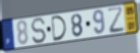8: (16, 19, 30, 47), (71, 14, 84, 39)
9: (92, 9, 106, 37)
D: (50, 15, 68, 42)
S: (30, 17, 47, 45)
Z: (106, 6, 126, 35)
